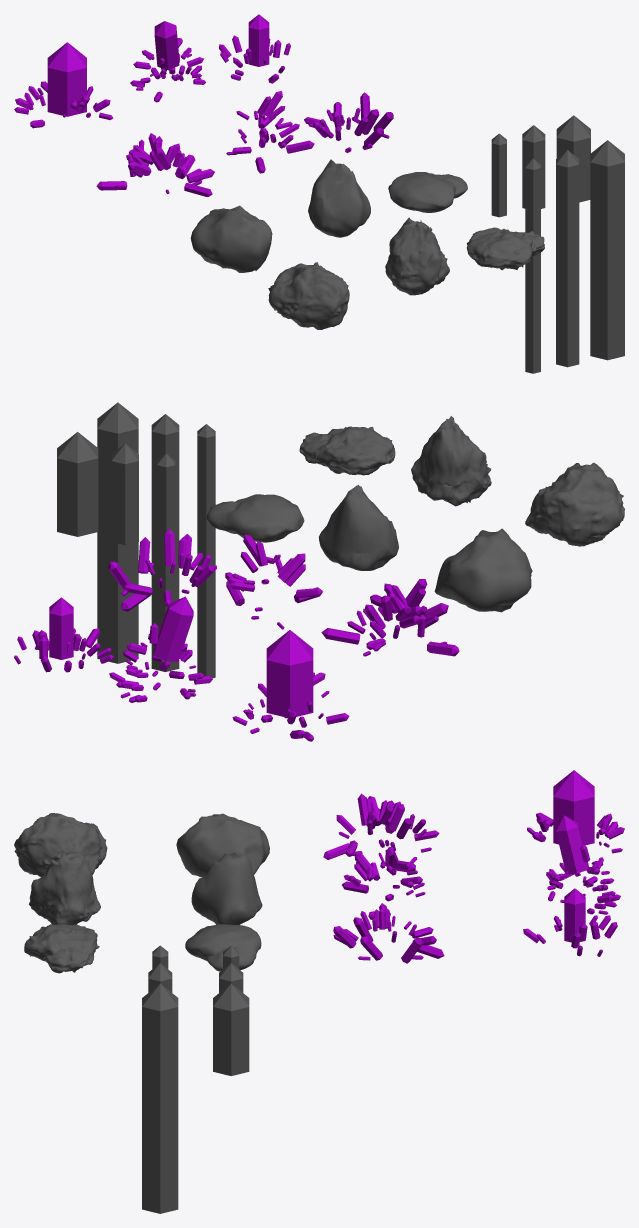
The model's file is Modular Crystal Cave Part 2.fbx.
3 renders of one model, top to bottom at view 1: azimuth 30°, elevation 25°; view 2: azimuth 150°, elevation 25°; view 3: azimuth 270°, elevation 25°, orthographic. The views are drawn at different scales.
Visible parts, largest first — view 1: Crystal_Huge_3, Crystal_Huge_2, Rock_3_High, Rock_3, Crystals_6, Rock_2_High, Rock_2, Crystal_Huge_1, Crystals_1, Rock_1_High, Rock_1, Crystals_5 (+6 smaller); view 2: Crystal_Huge_3, Rock_3_High, Rock_3, Crystals_6, Rock_2_High, Rock_2, Crystal_Huge_1, Crystal_1, Crystals_1, Crystal_Huge_2, Crystals_5, Rock_1_High (+6 smaller); view 3: Crystal_Huge_3, Rock_3_High, Rock_3, Rock_2_High, Rock_2, Crystals_6, Crystal_1, Crystals_1, Rock_1_High, Crystals_5, Crystals_3, Rock_1 (+2 smaller).
Part boxes in pixels (x1=…): Crystal_Huge_3: x1=590, y1=140, x2=624, y2=360; Crystal_Huge_2: x1=556, y1=150, x2=579, y2=367; Rock_3_High: x1=268, y1=262, x2=349, y2=329; Rock_3: x1=190, y1=205, x2=272, y2=272; Crystals_6: x1=14, y1=42, x2=113, y2=128; Rock_2_High: x1=385, y1=217, x2=449, y2=295; Rock_2: x1=308, y1=159, x2=370, y2=237; Crystal_Huge_1: x1=525, y1=158, x2=540, y2=373; Crystals_1: x1=96, y1=133, x2=214, y2=196; Rock_1_High: x1=466, y1=227, x2=544, y2=270; Rock_1: x1=388, y1=172, x2=467, y2=212; Crystals_5: x1=130, y1=21, x2=205, y2=102; Crystal_Huge_3: x1=97, y1=402, x2=138, y2=663; Rock_3_High: x1=525, y1=462, x2=624, y2=546; Rock_3: x1=434, y1=528, x2=532, y2=612; Crystals_6: x1=232, y1=630, x2=349, y2=741; Rock_2_High: x1=411, y1=416, x2=491, y2=506; Rock_2: x1=318, y1=485, x2=398, y2=570; Crystal_Huge_1: x1=197, y1=424, x2=215, y2=678; Crystal_1: x1=57, y1=432, x2=98, y2=536; Crystals_1: x1=321, y1=579, x2=459, y2=656; Crystal_Huge_2: x1=151, y1=414, x2=179, y2=671; Crystals_5: x1=109, y1=596, x2=212, y2=702; Rock_1_High: x1=299, y1=426, x2=395, y2=475; Crystal_Huge_3: x1=142, y1=983, x2=178, y2=1213; Rock_3_High: x1=14, y1=813, x2=107, y2=876; Rock_3: x1=176, y1=813, x2=269, y2=877; Rock_2_High: x1=29, y1=852, x2=100, y2=924; Rock_2: x1=191, y1=852, x2=262, y2=924; Crystals_6: x1=527, y1=770, x2=624, y2=878; Crystal_1: x1=213, y1=983, x2=249, y2=1075; Crystals_1: x1=323, y1=793, x2=439, y2=872; Rock_1_High: x1=24, y1=924, x2=99, y2=973; Crystals_5: x1=546, y1=815, x2=620, y2=914; Crystals_3: x1=333, y1=903, x2=444, y2=963; Rock_1: x1=185, y1=924, x2=261, y2=971.
Size of the model in its own units: 1083 by 623 by 1314.
